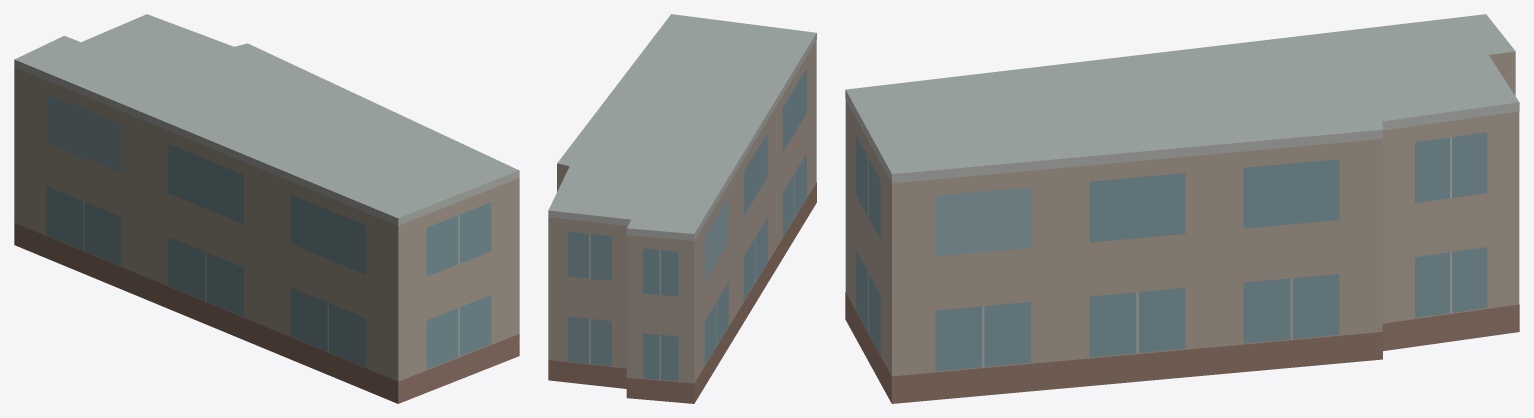
Rendered from survey-upis-32623682.glb.
3 views of the same model, side by side, from view 1: azimuth 30°, elevation 25°; view 2: azimuth 150°, elevation 25°; view 3: azimuth 270°, elevation 25° (orthographic). The views are drawn at different scales.
Parts seen in each view (by area): view 1: survey-upis-32623682.tmp; view 2: survey-upis-32623682.tmp; view 3: survey-upis-32623682.tmp.
Boxes of the visible parts, x1,y1,x2,y2 form: survey-upis-32623682.tmp: (14, 14, 519, 403); survey-upis-32623682.tmp: (548, 14, 816, 403); survey-upis-32623682.tmp: (845, 14, 1519, 403).
Bounding box in the file's own units: 9.14 × 6.1 × 16.24.
